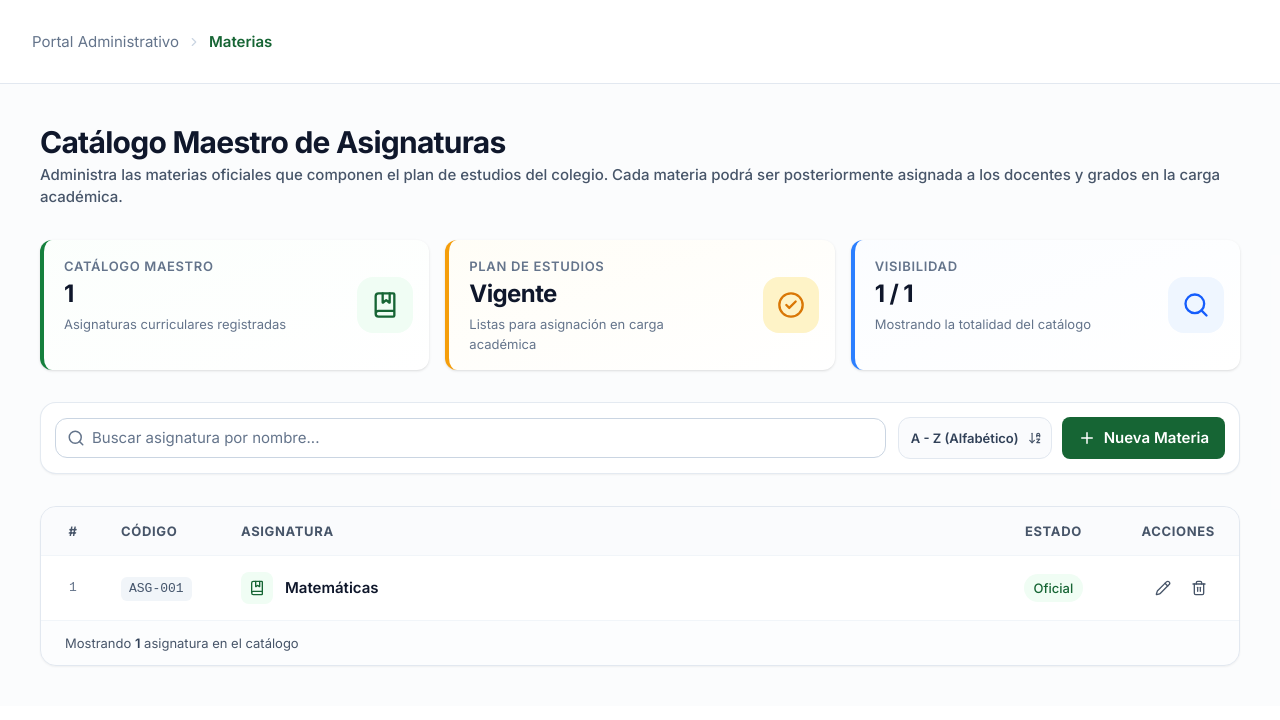
it: Integración: Catálogo Maestro de Asignaturas › registra una nueva asignatura y la refleja de inmediato en el catálogo
Expected: the text "Matemáticas" is shown, top-left (285, 577), bottom-right (378, 599)
Click the button "Nueva Materia".
click(1143, 438)  # box top-left (1062, 417), bottom-right (1225, 459)
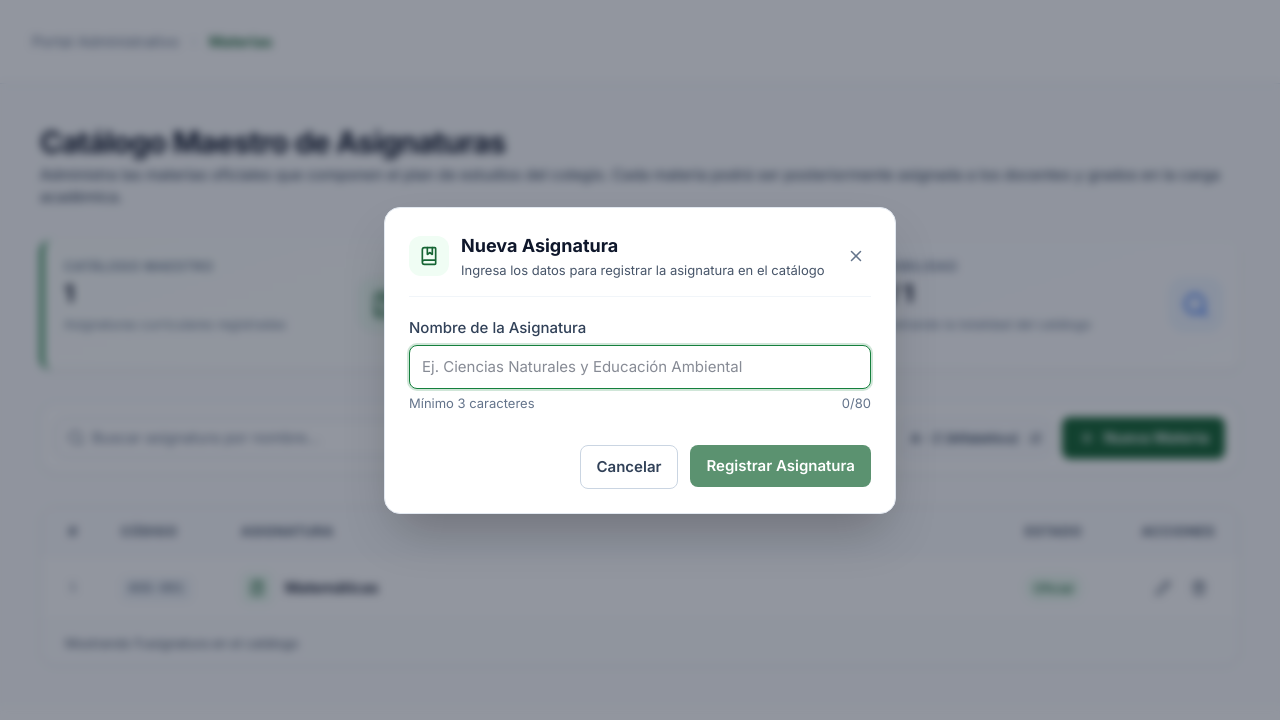
Type "Física" into the field labelled "Nombre de la Asignatura".
click(640, 366); type("Física")  # box top-left (409, 344), bottom-right (871, 388)
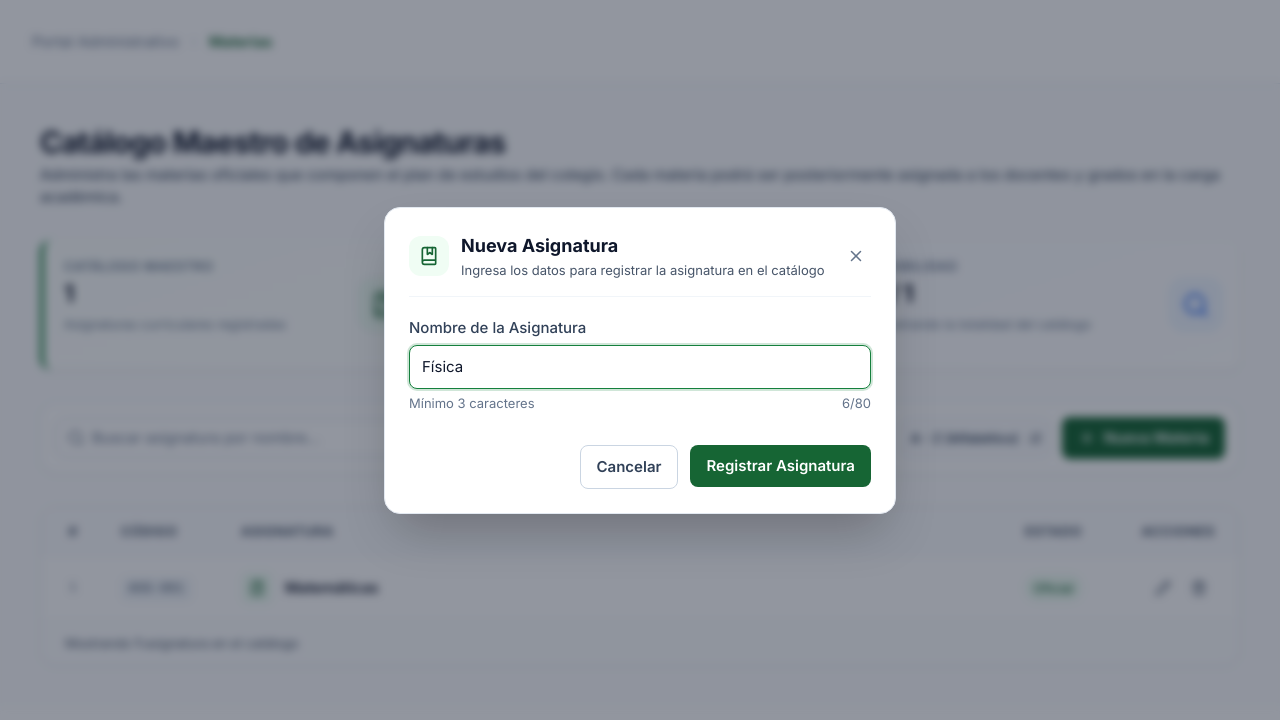
Click the button "Registrar Asignatura".
click(781, 466)  # box top-left (690, 444), bottom-right (871, 486)
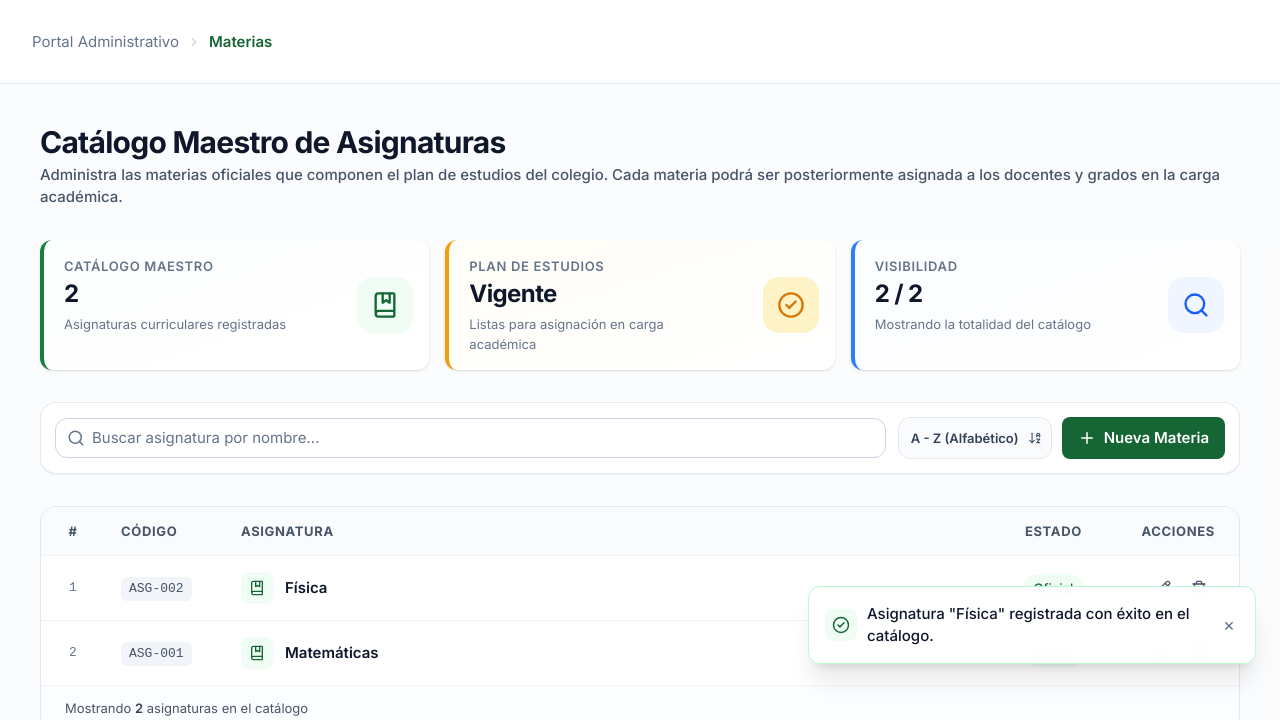
Expected: the text "Física" is shown, top-left (285, 577), bottom-right (327, 599)
Expected: the message shows "registrada con éxito", top-left (867, 604), bottom-right (1190, 645)
